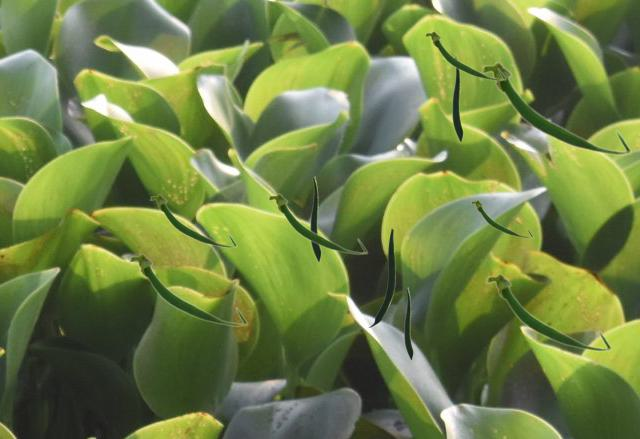french_bean: (481, 61, 631, 155), (485, 273, 611, 351), (128, 253, 247, 326), (267, 192, 367, 254), (149, 193, 236, 247), (424, 30, 505, 80), (369, 228, 394, 326), (470, 199, 532, 237), (310, 176, 320, 261), (452, 56, 462, 141), (404, 287, 412, 359)
